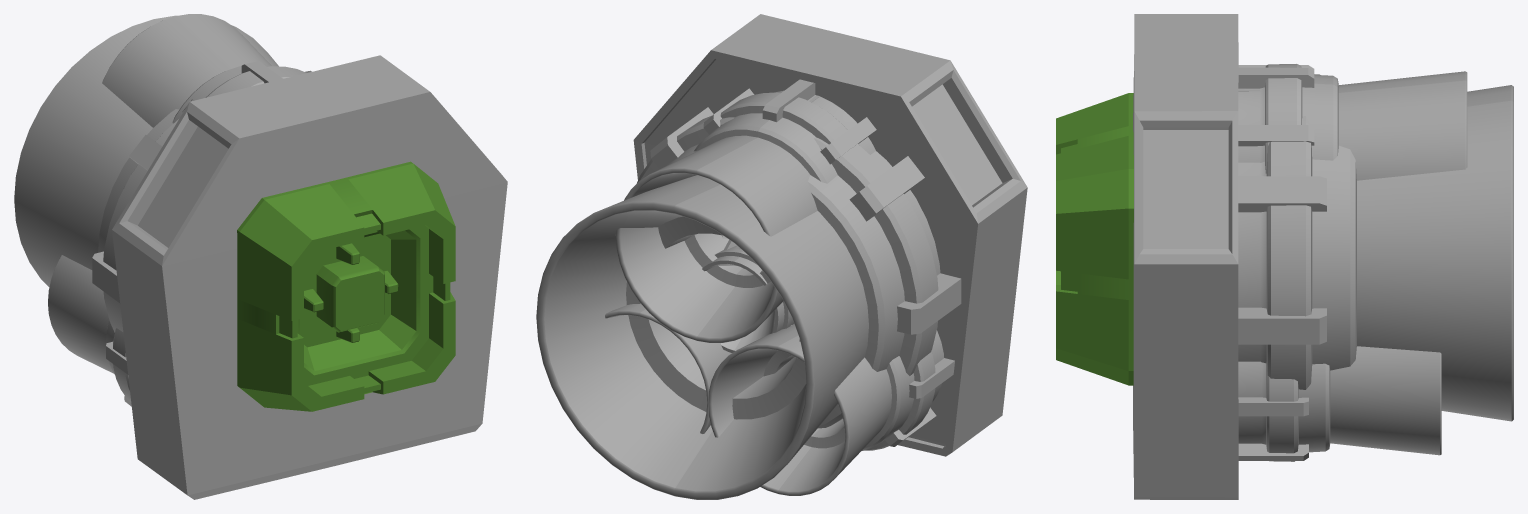
File: The Belt Thruster Modules.fbx
The picture shows the model from 3 angles, left to right: view 1: azimuth 30°, elevation 25°; view 2: azimuth 150°, elevation 25°; view 3: azimuth 270°, elevation 25°; orthographic projection. The views are drawn at different scales.
Parts seen in each view (by area): view 1: Thruster_Plug, Thruster_End (×3), Thruster_Base (×3); view 2: Thruster_End (×4), Thruster_Plug, Thruster_Base (×3); view 3: Thruster_Plug, Thruster_End (×3), Thruster_Base (×3).
Boxes of the visible parts, left/top/right/bottom form: Thruster_Plug: left=112, top=55, right=507, bottom=499; Thruster_End (×3): left=14, top=14, right=278, bottom=373; Thruster_Base (×3): left=92, top=61, right=311, bottom=406; Thruster_End (×4): left=536, top=135, right=891, bottom=499; Thruster_Plug: left=633, top=14, right=1027, bottom=456; Thruster_Base (×3): left=637, top=79, right=961, bottom=450; Thruster_Plug: left=1056, top=14, right=1238, bottom=499; Thruster_End (×3): left=1330, top=71, right=1513, bottom=455; Thruster_Base (×3): left=1238, top=64, right=1356, bottom=461.
Size of the model in its own units: 686 by 665 by 754.
